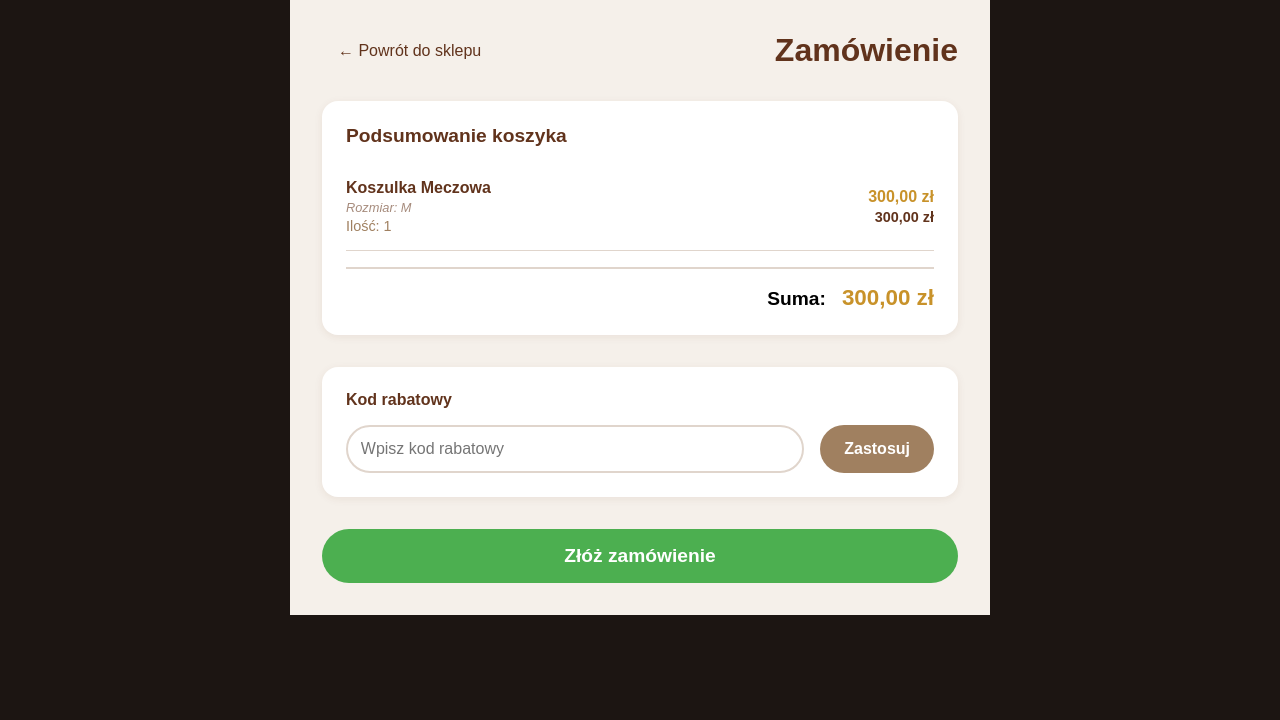
Test case: Order Component › should place order successfully
Click the button "Złóż zamówienie".
click(640, 556)  # box [322,529,958,583]
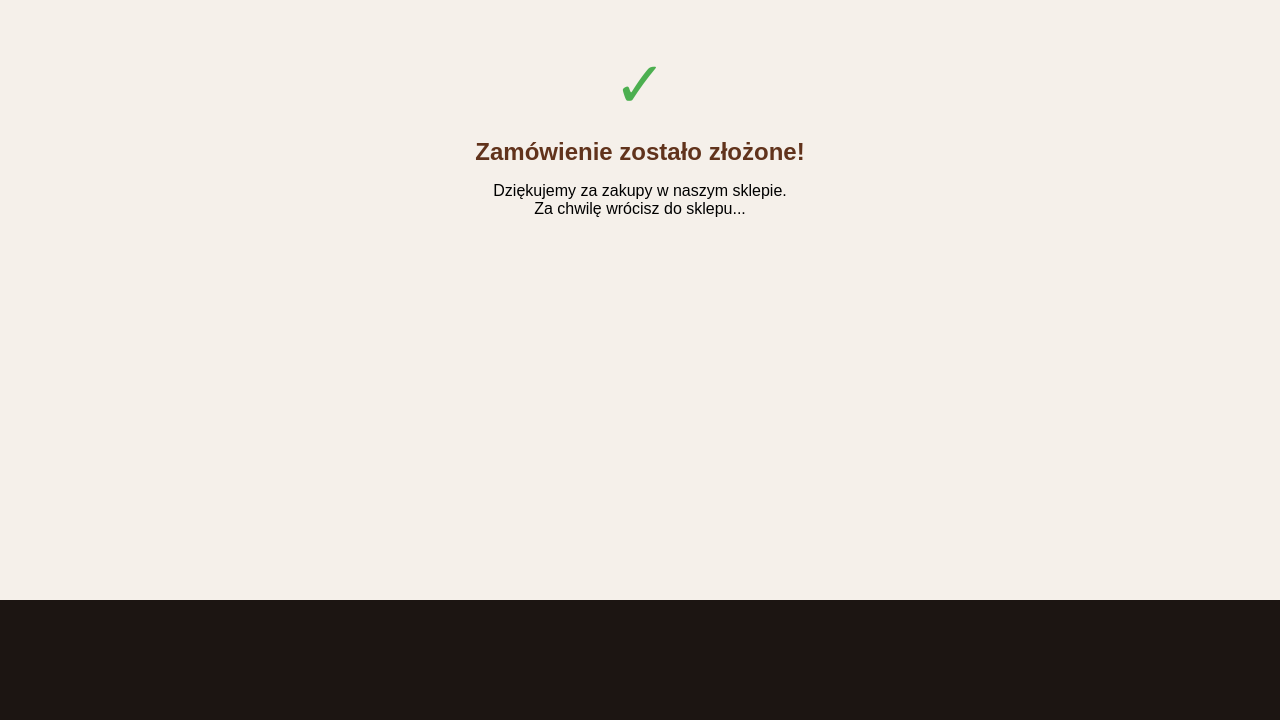
Now the heading "Zamówienie zostało złożone!" is shown, box [475,138,805,165]
